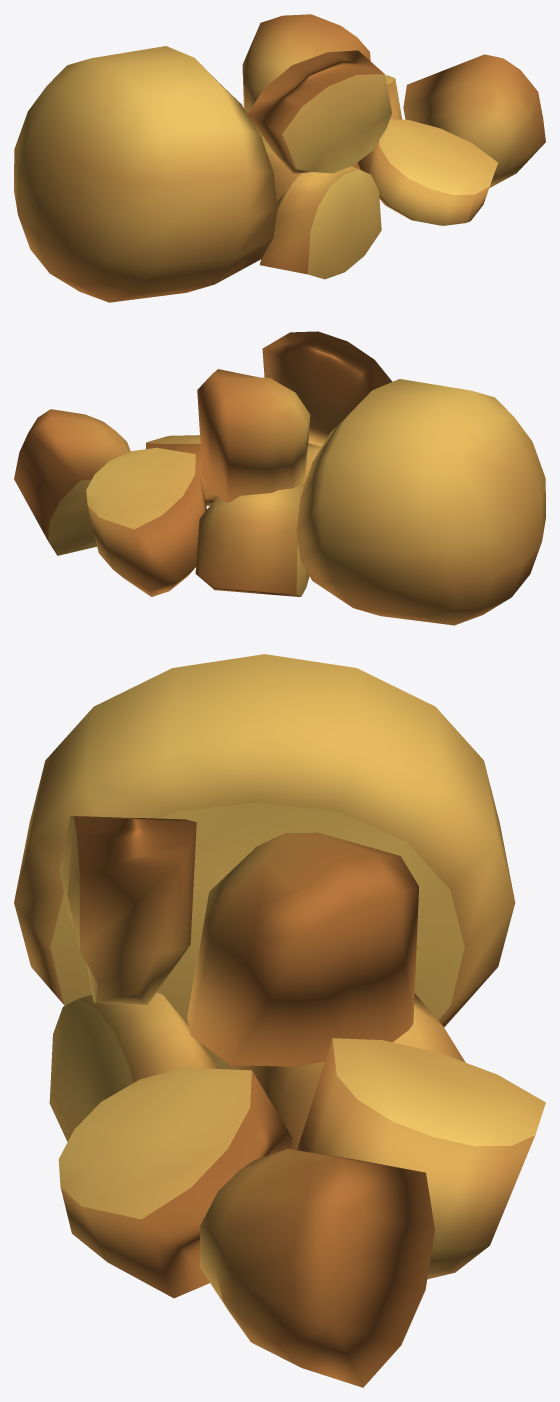
Rendered from potato_sliced.glb.
3 views of the same model, one above another, from view 1: azimuth 30°, elevation 25°; view 2: azimuth 150°, elevation 25°; view 3: azimuth 270°, elevation 25° (orthographic). The views are drawn at different scales.
Parts seen in each view (by area): view 1: food_ingredient_potato_chopped; view 2: food_ingredient_potato_chopped; view 3: food_ingredient_potato_chopped.
Boxes of the visible parts, x1=… form: food_ingredient_potato_chopped: x1=14, y1=14, x2=545, y2=302; food_ingredient_potato_chopped: x1=14, y1=331, x2=545, y2=625; food_ingredient_potato_chopped: x1=14, y1=654, x2=545, y2=1387.
Size of the model in its own units: 1.46 by 0.6303 by 0.7428.
1 material, 1 textured.
